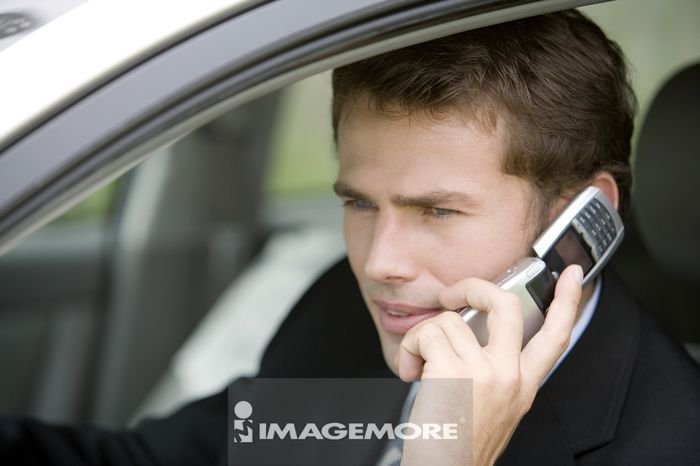talk: (341, 164, 619, 464)
